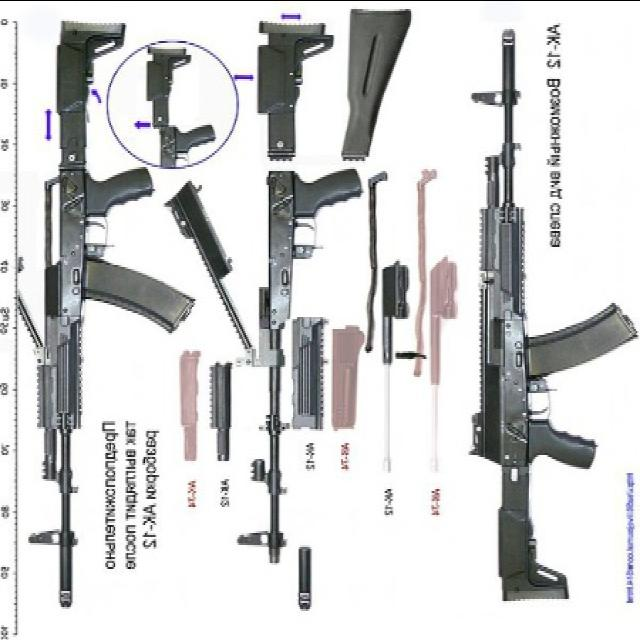rifle: (21, 13, 187, 623), (461, 13, 630, 607), (237, 5, 348, 573)
